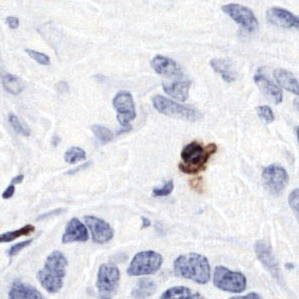Lymphocyte: (180, 141, 213, 171)
